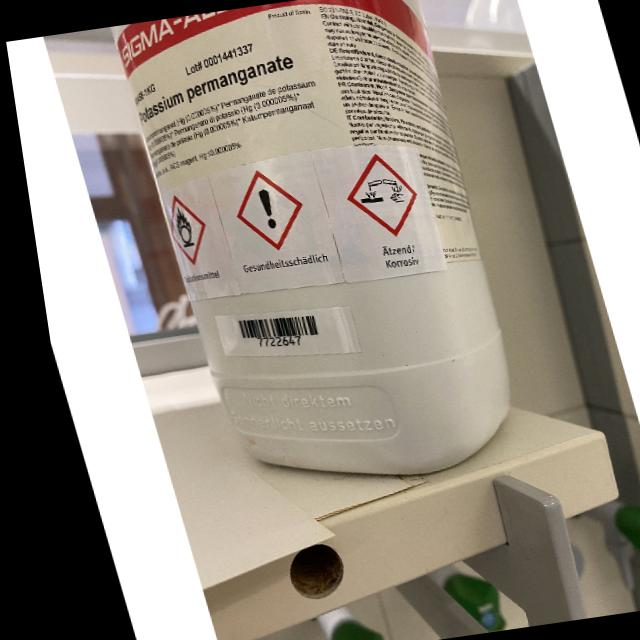corrosive: (329, 148, 423, 242)
health-ozone layer hazard: (217, 166, 308, 256)
